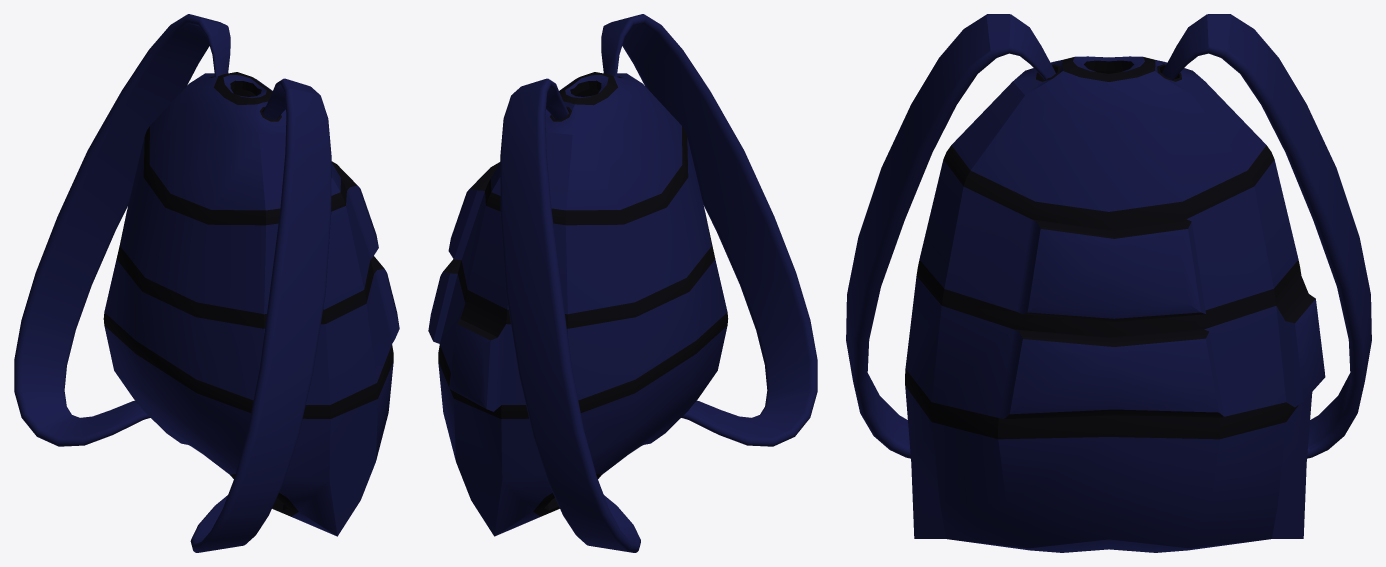
File: bagCTF.fbx
3 renders of one model, left to right at view 1: azimuth 30°, elevation 25°; view 2: azimuth 150°, elevation 25°; view 3: azimuth 270°, elevation 25°, orthographic. The views are drawn at different scales.
Visible parts, largest first — view 1: bagblue; view 2: bagblue; view 3: bagblue.
Boxes of the visible parts, box(x1,y1,x2,y2) form: bagblue: box(14, 14, 399, 552); bagblue: box(428, 14, 817, 552); bagblue: box(846, 14, 1371, 552).
Size of the model in its own units: 21.59 by 34.3 by 31.64.
